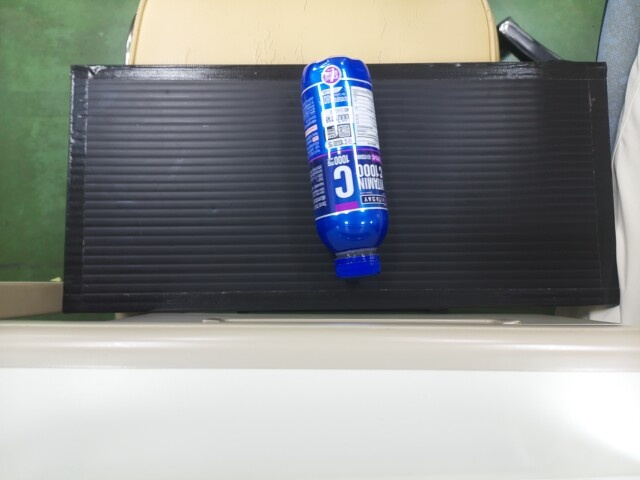plastic_bottle: (295, 55, 387, 277)
